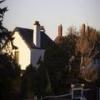chimneys: (58, 24, 62, 38)
